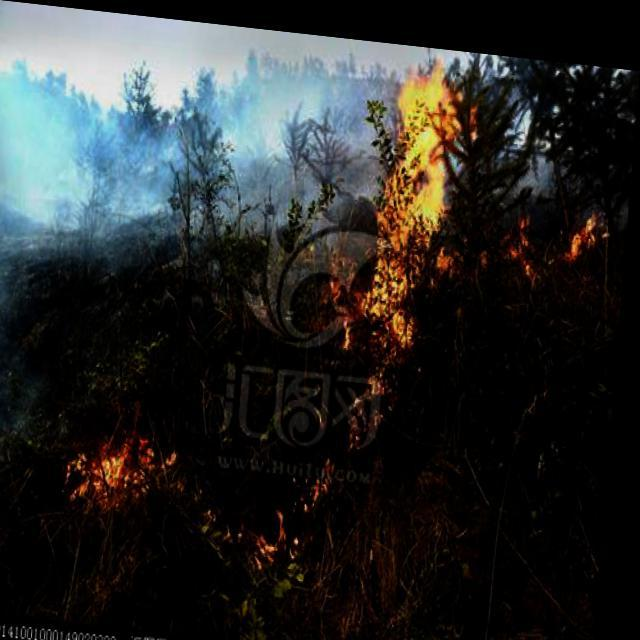Fire: (68, 424, 351, 574), (372, 51, 486, 346), (497, 176, 610, 264)
